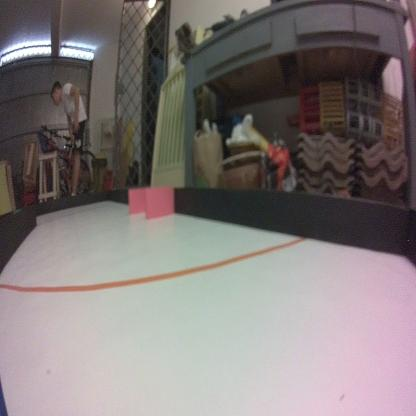magenta: (146, 184, 173, 218), (128, 185, 154, 214)
